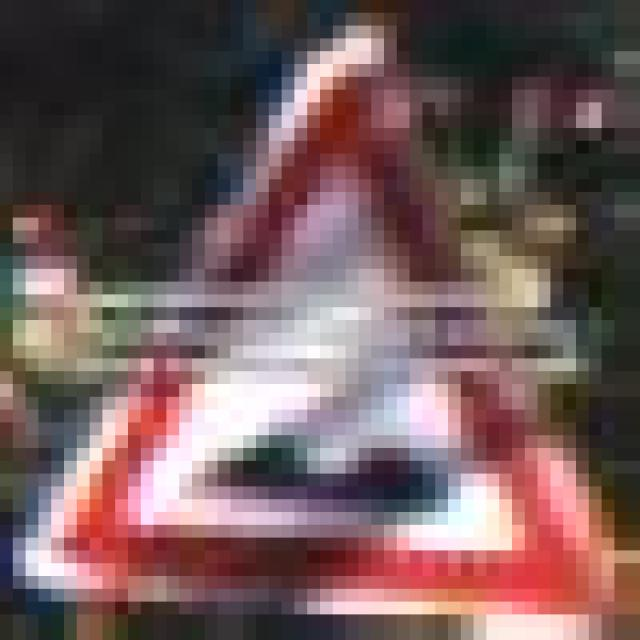horn_prohibited: (13, 13, 627, 589)
